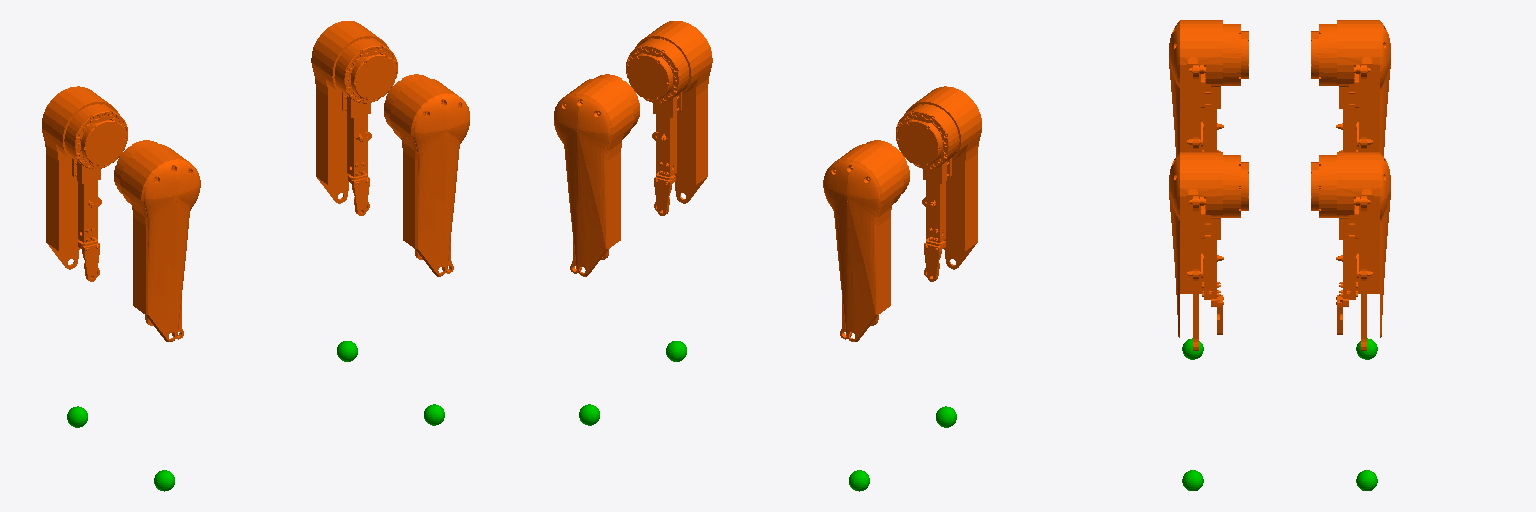
--- What the picture shows (computed from the rendered views, not written in the file) ---
The picture shows the robot from 3 angles, left to right: view 1: azimuth 30°, elevation 25°; view 2: azimuth 150°, elevation 25°; view 3: azimuth 270°, elevation 25°; orthographic projection.
Model aliengo_description with 19 links and 18 joints (12 revolute, 6 fixed), rooted at base, posed all joints at 0.
Visible links, largest first — view 1: RR_thigh, FR_thigh, FL_thigh, RL_thigh; view 2: RL_thigh, FL_thigh, FR_thigh, RR_thigh; view 3: FR_thigh, FL_thigh, RR_thigh, RL_thigh.
Boxes of the visible links, x1,y1,x2,y2 form: RR_thigh: (114,140,200,341); FR_thigh: (384,74,469,276); FL_thigh: (311,21,397,215); RL_thigh: (42,86,127,281); RL_thigh: (823,140,909,341); FL_thigh: (554,74,639,276); FR_thigh: (626,21,712,215); RR_thigh: (896,86,981,281); FR_thigh: (1169,152,1248,350); FL_thigh: (1311,152,1390,350); RR_thigh: (1169,20,1248,155); RL_thigh: (1311,20,1390,155).
Size in the robot's own frame: 0.5855 by 0.343 by 0.5695 metres.
Meshes: 5 distinct files referenced, 4 mesh visuals loaded (2 Collada DAE); not drawn: 9 (reference not matched to a file when rendering).

The robot description file, URDF, robot "aliengo_description":
<?xml version="1.0" encoding="utf-8"?>
<!-- =================================================================================== -->
<!-- |    This document was autogenerated by xacro from robot.xacro                    | -->
<!-- |    EDITING THIS FILE BY HAND IS NOT RECOMMENDED                                 | -->
<!-- =================================================================================== -->
<robot name="aliengo_description">
  <material name="black">
    <color rgba="0.0 0.0 0.0 1.0"/>
  </material>
  <material name="blue">
    <color rgba="0.0 0.0 0.8 1.0"/>
  </material>
  <material name="green">
    <color rgba="0.0 0.8 0.0 1.0"/>
  </material>
  <material name="grey">
    <color rgba="0.2 0.2 0.2 1.0"/>
  </material>
  <material name="silver">
    <color rgba="0.913725490196 0.913725490196 0.847058823529 1.0"/>
  </material>
  <material name="orange">
    <color rgba="1.0 0.423529411765 0.0392156862745 1.0"/>
  </material>
  <material name="brown">
    <color rgba="0.870588235294 0.811764705882 0.764705882353 1.0"/>
  </material>
  <material name="red">
    <color rgba="0.8 0.0 0.0 1.0"/>
  </material>
  <material name="white">
    <color rgba="1.0 1.0 1.0 1.0"/>
  </material>
  <link name="base">
    <visual>
      <origin rpy="0 0 0" xyz="0 0 0"/>
      <geometry>
        <box size="0.001 0.001 0.001"/>
      </geometry>
    </visual>
  </link>
  <joint name="floating_base" type="fixed">
    <origin rpy="0 0 0" xyz="0 0 0"/>
    <parent link="base"/>
    <child link="trunk"/>
  </joint>
  <link name="trunk">
    <visual>
      <origin rpy="0 0 0" xyz="0 0 0"/>
      <geometry>
        <mesh filename="../meshes/trunk.dae" scale="1 1 1"/>
      </geometry>
      <material name="orange"/>
    </visual>
    <collision>
      <origin rpy="0 0 0" xyz="0 0 0"/>
      <geometry>
        <box size="0.647 0.15 0.112"/>
      </geometry>
    </collision>
    <!-- <collision>
            <origin rpy="0 0 0" xyz="0 0 0"/>
            <geometry>
                <mesh filename="../meshes/trunk.dae" scale="1 1 1"/>
            </geometry>
        </collision> -->
    <inertial>
      <origin rpy="0 0 0" xyz="0.008465 0.004045 -0.000763"/>
      <mass value="9.041"/>
      <inertia ixx="0.033260231" ixy="-0.000451628" ixz="0.000487603" iyy="0.16117211" iyz="4.8356e-05" izz="0.17460442"/>
    </inertial>
  </link>
  <joint name="imu_joint" type="fixed">
    <parent link="trunk"/>
    <child link="imu_link"/>
    <origin rpy="0 0 0" xyz="0 0 0"/>
  </joint>
  <link name="imu_link">
    <inertial>
      <mass value="0.001"/>
      <origin rpy="0 0 0" xyz="0 0 0"/>
      <inertia ixx="0.0001" ixy="0" ixz="0" iyy="0.000001" iyz="0" izz="0.0001"/>
    </inertial>
    <visual>
      <origin rpy="0 0 0" xyz="0 0 0"/>
      <geometry>
        <box size="0.001 0.001 0.001"/>
      </geometry>
      <material name="red"/>
    </visual>
    <collision>
      <origin rpy="0 0 0" xyz="0 0 0"/>
      <geometry>
        <box size=".001 .001 .001"/>
      </geometry>
    </collision>
  </link>
  <joint name="FR_hip_joint" type="revolute">
    <origin rpy="0 0 0" xyz="0.2399 -0.051 0"/>
    <parent link="trunk"/>
    <child link="FR_hip"/>
    <axis xyz="1 0 0"/>
    <dynamics damping="0" friction="0"/>
    <limit effort="44" lower="-6.28" upper="6.28" velocity="20"/>
  </joint>
  <link name="FR_hip">
    <visual>
      <origin rpy="3.14159265359 0 0" xyz="0 0 0"/>
      <geometry>
        <mesh filename="../meshes/hip.dae" scale="1 1 1"/>
      </geometry>
      <material name="orange"/>
    </visual>
    <collision>
      <origin rpy="1.57079632679 0 0" xyz="0 -0.083 0"/>
      <geometry>
        <cylinder length="0.0418" radius="0.046"/>
      </geometry>
    </collision>
    <inertial>
      <origin rpy="0 0 0" xyz="-0.022191 -0.015144 -1.5e-05"/>
      <mass value="1.993"/>
      <inertia ixx="0.002903894" ixy="7.185e-05" ixz="-1.262e-06" iyy="0.004907517" iyz="1.75e-06" izz="0.005586944"/>
    </inertial>
  </link>
  <!-- <joint name="${name}_hip_fixed" type="fixed">
            <origin rpy="0 0 0" xyz="0 ${(thigh_shoulder_length/2.0+hip_offset)*mirror} 0"/>
            <parent link="${name}_hip"/>
            <child link="${name}_thigh_shoulder"/>
        </joint> -->
  <!-- this link is only for collision -->
  <!-- <link name="${name}_thigh_shoulder">
            <collision>
                <origin rpy="${PI/2.0} 0 0" xyz="0 0 0"/>
                <geometry>
                    <cylinder length="${thigh_shoulder_length}" radius="${thigh_shoulder_radius}"/>
                </geometry>
            </collision>
        </link> -->
  <joint name="FR_thigh_joint" type="revolute">
    <origin rpy="0 0 0" xyz="0 -0.083 0"/>
    <parent link="FR_hip"/>
    <child link="FR_thigh"/>
    <axis xyz="0 1 0"/>
    <dynamics damping="0" friction="0"/>
    <limit effort="44" lower="-6.28" upper="6.28" velocity="20"/>
  </joint>
  <link name="FR_thigh">
    <visual>
      <origin rpy="0 0 0" xyz="0 0 0"/>
      <geometry>
        <mesh filename="../meshes/thigh_mirror.dae" scale="1 1 1"/>
      </geometry>
      <material name="orange"/>
    </visual>
    <collision>
      <origin rpy="0 1.57079632679 0" xyz="0 0 -0.125"/>
      <geometry>
        <box size="0.25 0.0374 0.043"/>
      </geometry>
    </collision>
    <inertial>
      <origin rpy="0 0 0" xyz="-0.005607 0.003877 -0.048199"/>
      <mass value="0.639"/>
      <inertia ixx="0.005666803" ixy="-3.597e-06" ixz="0.000491446" iyy="0.005847229" iyz="-1.0086e-05" izz="0.000369811"/>
    </inertial>
  </link>
  <joint name="FR_calf_joint" type="revolute">
    <origin rpy="0 0 0" xyz="0 0 -0.25"/>
    <parent link="FR_thigh"/>
    <child link="FR_calf"/>
    <axis xyz="0 1 0"/>
    <dynamics damping="0" friction="0"/>
    <limit effort="55" lower="-6.28" upper="6.28" velocity="16"/>
  </joint>
  <link name="FR_calf">
    <visual>
      <origin rpy="0 0 0" xyz="0 0 0"/>
      <geometry>
        <mesh filename="../meshes/calf.dae" scale="1 1 1"/>
      </geometry>
      <material name="orange"/>
    </visual>
    <collision>
      <origin rpy="0 1.57079632679 0" xyz="0 0 -0.125"/>
      <geometry>
        <box size="0.25 0.0208 0.016"/>
      </geometry>
    </collision>
    <inertial>
      <origin rpy="0 0 0" xyz="0.002781 6.3e-05 -0.142518"/>
      <mass value="0.207"/>
      <inertia ixx="0.006341369" ixy="-3e-09" ixz="-8.7951e-05" iyy="0.006355157" iyz="-1.336e-06" izz="3.9188e-05"/>
    </inertial>
  </link>
  <joint name="FR_foot_fixed" type="fixed" dont_collapse="true">
    <origin rpy="0 0 0" xyz="0 0 -0.25"/>
    <parent link="FR_calf"/>
    <child link="FR_foot"/>
  </joint>
  <link name="FR_foot">
    <visual>
      <origin rpy="0 0 0" xyz="0 0 0"/>
      <geometry>
        <sphere radius="0.0165"/>
      </geometry>
      <material name="green"/>
    </visual>
    <collision>
      <origin rpy="0 0 0" xyz="0 0 0"/>
      <geometry>
        <sphere radius="0.0265"/>
      </geometry>
    </collision>
    <inertial>
      <mass value="0.06"/>
      <inertia ixx="1.6854e-05" ixy="0.0" ixz="0.0" iyy="1.6854e-05" iyz="0.0" izz="1.6854e-05"/>
    </inertial>
  </link>
  <transmission name="FR_hip_tran">
    <type>transmission_interface/SimpleTransmission</type>
    <joint name="FR_hip_joint">
      <hardwareInterface>hardware_interface/EffortJointInterface</hardwareInterface>
    </joint>
    <actuator name="FR_hip_motor">
      <hardwareInterface>hardware_interface/EffortJointInterface</hardwareInterface>
      <mechanicalReduction>1</mechanicalReduction>
    </actuator>
  </transmission>
  <transmission name="FR_thigh_tran">
    <type>transmission_interface/SimpleTransmission</type>
    <joint name="FR_thigh_joint">
      <hardwareInterface>hardware_interface/EffortJointInterface</hardwareInterface>
    </joint>
    <actuator name="FR_thigh_motor">
      <hardwareInterface>hardware_interface/EffortJointInterface</hardwareInterface>
      <mechanicalReduction>1</mechanicalReduction>
    </actuator>
  </transmission>
  <transmission name="FR_calf_tran">
    <type>transmission_interface/SimpleTransmission</type>
    <joint name="FR_calf_joint">
      <hardwareInterface>hardware_interface/EffortJointInterface</hardwareInterface>
    </joint>
    <actuator name="FR_calf_motor">
      <hardwareInterface>hardware_interface/EffortJointInterface</hardwareInterface>
      <mechanicalReduction>1</mechanicalReduction>
    </actuator>
  </transmission>
  <joint name="FL_hip_joint" type="revolute">
    <origin rpy="0 0 0" xyz="0.2399 0.051 0"/>
    <parent link="trunk"/>
    <child link="FL_hip"/>
    <axis xyz="1 0 0"/>
    <dynamics damping="0" friction="0"/>
    <limit effort="44" lower="-6.28" upper="6.28" velocity="20"/>
  </joint>
  <link name="FL_hip">
    <visual>
      <origin rpy="0 0 0" xyz="0 0 0"/>
      <geometry>
        <mesh filename="../meshes/hip.dae" scale="1 1 1"/>
      </geometry>
      <material name="orange"/>
    </visual>
    <collision>
      <origin rpy="1.57079632679 0 0" xyz="0 0.083 0"/>
      <geometry>
        <cylinder length="0.0418" radius="0.046"/>
      </geometry>
    </collision>
    <inertial>
      <origin rpy="0 0 0" xyz="-0.022191 0.015144 -1.5e-05"/>
      <mass value="1.993"/>
      <inertia ixx="0.002903894" ixy="-7.185e-05" ixz="-1.262e-06" iyy="0.004907517" iyz="-1.75e-06" izz="0.005586944"/>
    </inertial>
  </link>
  <!-- <joint name="${name}_hip_fixed" type="fixed">
            <origin rpy="0 0 0" xyz="0 ${(thigh_shoulder_length/2.0+hip_offset)*mirror} 0"/>
            <parent link="${name}_hip"/>
            <child link="${name}_thigh_shoulder"/>
        </joint> -->
  <!-- this link is only for collision -->
  <!-- <link name="${name}_thigh_shoulder">
            <collision>
                <origin rpy="${PI/2.0} 0 0" xyz="0 0 0"/>
                <geometry>
                    <cylinder length="${thigh_shoulder_length}" radius="${thigh_shoulder_radius}"/>
                </geometry>
            </collision>
        </link> -->
  <joint name="FL_thigh_joint" type="revolute">
    <origin rpy="0 0 0" xyz="0 0.083 0"/>
    <parent link="FL_hip"/>
    <child link="FL_thigh"/>
    <axis xyz="0 1 0"/>
    <dynamics damping="0" friction="0"/>
    <limit effort="44" lower="-6.28" upper="6.28" velocity="20"/>
  </joint>
  <link name="FL_thigh">
    <visual>
      <origin rpy="0 0 0" xyz="0 0 0"/>
      <geometry>
        <mesh filename="../meshes/thigh.dae" scale="1 1 1"/>
      </geometry>
      <material name="orange"/>
    </visual>
    <collision>
      <origin rpy="0 1.57079632679 0" xyz="0 0 -0.125"/>
      <geometry>
        <box size="0.25 0.0374 0.043"/>
      </geometry>
    </collision>
    <inertial>
      <origin rpy="0 0 0" xyz="-0.005607 -0.003877 -0.048199"/>
      <mass value="0.639"/>
      <inertia ixx="0.005666803" ixy="3.597e-06" ixz="0.000491446" iyy="0.005847229" iyz="1.0086e-05" izz="0.000369811"/>
    </inertial>
  </link>
  <joint name="FL_calf_joint" type="revolute">
    <origin rpy="0 0 0" xyz="0 0 -0.25"/>
    <parent link="FL_thigh"/>
    <child link="FL_calf"/>
    <axis xyz="0 1 0"/>
    <dynamics damping="0" friction="0"/>
    <limit effort="55" lower="-6.28" upper="6.28" velocity="16"/>
  </joint>
  <link name="FL_calf">
    <visual>
      <origin rpy="0 0 0" xyz="0 0 0"/>
      <geometry>
        <mesh filename="../meshes/calf.dae" scale="1 1 1"/>
      </geometry>
      <material name="orange"/>
    </visual>
    <collision>
      <origin rpy="0 1.57079632679 0" xyz="0 0 -0.125"/>
      <geometry>
        <box size="0.25 0.0208 0.016"/>
      </geometry>
    </collision>
    <inertial>
      <origin rpy="0 0 0" xyz="0.002781 6.3e-05 -0.142518"/>
      <mass value="0.207"/>
      <inertia ixx="0.006341369" ixy="-3e-09" ixz="-8.7951e-05" iyy="0.006355157" iyz="-1.336e-06" izz="3.9188e-05"/>
    </inertial>
  </link>
  <joint name="FL_foot_fixed" type="fixed" dont_collapse="true">
    <origin rpy="0 0 0" xyz="0 0 -0.25"/>
    <parent link="FL_calf"/>
    <child link="FL_foot"/>
  </joint>
  <link name="FL_foot">
    <visual>
      <origin rpy="0 0 0" xyz="0 0 0"/>
      <geometry>
        <sphere radius="0.0165"/>
      </geometry>
      <material name="green"/>
    </visual>
    <collision>
      <origin rpy="0 0 0" xyz="0 0 0"/>
      <geometry>
        <sphere radius="0.0265"/>
      </geometry>
    </collision>
    <inertial>
      <mass value="0.06"/>
      <inertia ixx="1.6854e-05" ixy="0.0" ixz="0.0" iyy="1.6854e-05" iyz="0.0" izz="1.6854e-05"/>
    </inertial>
  </link>
  <transmission name="FL_hip_tran">
    <type>transmission_interface/SimpleTransmission</type>
    <joint name="FL_hip_joint">
      <hardwareInterface>hardware_interface/EffortJointInterface</hardwareInterface>
    </joint>
    <actuator name="FL_hip_motor">
      <hardwareInterface>hardware_interface/EffortJointInterface</hardwareInterface>
      <mechanicalReduction>1</mechanicalReduction>
    </actuator>
  </transmission>
  <transmission name="FL_thigh_tran">
    <type>transmission_interface/SimpleTransmission</type>
    <joint name="FL_thigh_joint">
      <hardwareInterface>hardware_interface/EffortJointInterface</hardwareInterface>
    </joint>
    <actuator name="FL_thigh_motor">
      <hardwareInterface>hardware_interface/EffortJointInterface</hardwareInterface>
      <mechanicalReduction>1</mechanicalReduction>
    </actuator>
  </transmission>
  <transmission name="FL_calf_tran">
    <type>transmission_interface/SimpleTransmission</type>
    <joint name="FL_calf_joint">
      <hardwareInterface>hardware_interface/EffortJointInterface</hardwareInterface>
    </joint>
    <actuator name="FL_calf_motor">
      <hardwareInterface>hardware_interface/EffortJointInterface</hardwareInterface>
      <mechanicalReduction>1</mechanicalReduction>
    </actuator>
  </transmission>
  <joint name="RR_hip_joint" type="revolute">
    <origin rpy="0 0 0" xyz="-0.2399 -0.051 0"/>
    <parent link="trunk"/>
    <child link="RR_hip"/>
    <axis xyz="1 0 0"/>
    <dynamics damping="0" friction="0"/>
    <limit effort="44" lower="-6.28" upper="6.28" velocity="20"/>
  </joint>
  <link name="RR_hip">
    <visual>
      <origin rpy="3.14159265359 3.14159265359 0" xyz="0 0 0"/>
      <geometry>
        <mesh filename="../meshes/hip.dae" scale="1 1 1"/>
      </geometry>
      <material name="orange"/>
    </visual>
    <collision>
      <origin rpy="1.57079632679 0 0" xyz="0 -0.083 0"/>
      <geometry>
        <cylinder length="0.0418" radius="0.046"/>
      </geometry>
    </collision>
    <inertial>
      <origin rpy="0 0 0" xyz="0.022191 -0.015144 -1.5e-05"/>
      <mass value="1.993"/>
      <inertia ixx="0.002903894" ixy="-7.185e-05" ixz="1.262e-06" iyy="0.004907517" iyz="1.75e-06" izz="0.005586944"/>
    </inertial>
  </link>
  <!-- <joint name="${name}_hip_fixed" type="fixed">
            <origin rpy="0 0 0" xyz="0 ${(thigh_shoulder_length/2.0+hip_offset)*mirror} 0"/>
            <parent link="${name}_hip"/>
            <child link="${name}_thigh_shoulder"/>
        </joint> -->
  <!-- this link is only for collision -->
  <!-- <link name="${name}_thigh_shoulder">
            <collision>
                <origin rpy="${PI/2.0} 0 0" xyz="0 0 0"/>
                <geometry>
                    <cylinder length="${thigh_shoulder_length}" radius="${thigh_shoulder_radius}"/>
                </geometry>
            </collision>
        </link> -->
  <joint name="RR_thigh_joint" type="revolute">
    <origin rpy="0 0 0" xyz="0 -0.083 0"/>
    <parent link="RR_hip"/>
    <child link="RR_thigh"/>
    <axis xyz="0 1 0"/>
    <dynamics damping="0" friction="0"/>
    <limit effort="44" lower="-6.28" upper="6.28" velocity="20"/>
  </joint>
  <link name="RR_thigh">
    <visual>
      <origin rpy="0 0 0" xyz="0 0 0"/>
      <geometry>
        <mesh filename="../meshes/thigh_mirror.dae" scale="1 1 1"/>
      </geometry>
      <material name="orange"/>
    </visual>
    <collision>
      <origin rpy="0 1.57079632679 0" xyz="0 0 -0.125"/>
      <geometry>
        <box size="0.25 0.0374 0.043"/>
      </geometry>
    </collision>
    <inertial>
      <origin rpy="0 0 0" xyz="-0.005607 0.003877 -0.048199"/>
      <mass value="0.639"/>
      <inertia ixx="0.005666803" ixy="-3.597e-06" ixz="0.000491446" iyy="0.005847229" iyz="-1.0086e-05" izz="0.000369811"/>
    </inertial>
  </link>
  <joint name="RR_calf_joint" type="revolute">
    <origin rpy="0 0 0" xyz="0 0 -0.25"/>
    <parent link="RR_thigh"/>
    <child link="RR_calf"/>
    <axis xyz="0 1 0"/>
    <dynamics damping="0" friction="0"/>
    <limit effort="55" lower="-6.28" upper="6.28" velocity="16"/>
  </joint>
  <link name="RR_calf">
    <visual>
      <origin rpy="0 0 0" xyz="0 0 0"/>
      <geometry>
        <mesh filename="../meshes/calf.dae" scale="1 1 1"/>
      </geometry>
      <material name="orange"/>
    </visual>
    <collision>
      <origin rpy="0 1.57079632679 0" xyz="0 0 -0.125"/>
      <geometry>
        <box size="0.25 0.0208 0.016"/>
      </geometry>
    </collision>
    <inertial>
      <origin rpy="0 0 0" xyz="0.002781 6.3e-05 -0.142518"/>
      <mass value="0.207"/>
      <inertia ixx="0.006341369" ixy="-3e-09" ixz="-8.7951e-05" iyy="0.006355157" iyz="-1.336e-06" izz="3.9188e-05"/>
    </inertial>
  </link>
  <joint name="RR_foot_fixed" type="fixed" dont_collapse="true">
    <origin rpy="0 0 0" xyz="0 0 -0.25"/>
    <parent link="RR_calf"/>
    <child link="RR_foot"/>
  </joint>
  <link name="RR_foot">
    <visual>
      <origin rpy="0 0 0" xyz="0 0 0"/>
      <geometry>
        <sphere radius="0.0165"/>
      </geometry>
      <material name="green"/>
    </visual>
    <collision>
      <origin rpy="0 0 0" xyz="0 0 0"/>
      <geometry>
        <sphere radius="0.0265"/>
      </geometry>
    </collision>
    <inertial>
      <mass value="0.06"/>
      <inertia ixx="1.6854e-05" ixy="0.0" ixz="0.0" iyy="1.6854e-05" iyz="0.0" izz="1.6854e-05"/>
    </inertial>
  </link>
  <transmission name="RR_hip_tran">
    <type>transmission_interface/SimpleTransmission</type>
    <joint name="RR_hip_joint">
      <hardwareInterface>hardware_interface/EffortJointInterface</hardwareInterface>
    </joint>
    <actuator name="RR_hip_motor">
      <hardwareInterface>hardware_interface/EffortJointInterface</hardwareInterface>
      <mechanicalReduction>1</mechanicalReduction>
    </actuator>
  </transmission>
  <transmission name="RR_thigh_tran">
    <type>transmission_interface/SimpleTransmission</type>
    <joint name="RR_thigh_joint">
      <hardwareInterface>hardware_interface/EffortJointInterface</hardwareInterface>
    </joint>
    <actuator name="RR_thigh_motor">
      <hardwareInterface>hardware_interface/EffortJointInterface</hardwareInterface>
      <mechanicalReduction>1</mechanicalReduction>
    </actuator>
  </transmission>
  <transmission name="RR_calf_tran">
    <type>transmission_interface/SimpleTransmission</type>
    <joint name="RR_calf_joint">
      <hardwareInterface>hardware_interface/EffortJointInterface</hardwareInterface>
    </joint>
    <actuator name="RR_calf_motor">
      <hardwareInterface>hardware_interface/EffortJointInterface</hardwareInterface>
      <mechanicalReduction>1</mechanicalReduction>
    </actuator>
  </transmission>
  <joint name="RL_hip_joint" type="revolute">
    <origin rpy="0 0 0" xyz="-0.2399 0.051 0"/>
    <parent link="trunk"/>
    <child link="RL_hip"/>
    <axis xyz="1 0 0"/>
    <dynamics damping="0" friction="0"/>
    <limit effort="44" lower="-6.28" upper="6.28" velocity="20"/>
  </joint>
  <link name="RL_hip">
    <visual>
      <origin rpy="0 3.14159265359 0" xyz="0 0 0"/>
      <geometry>
        <mesh filename="../meshes/hip.dae" scale="1 1 1"/>
      </geometry>
      <material name="orange"/>
    </visual>
    <collision>
      <origin rpy="1.57079632679 0 0" xyz="0 0.083 0"/>
      <geometry>
        <cylinder length="0.0418" radius="0.046"/>
      </geometry>
    </collision>
    <inertial>
      <origin rpy="0 0 0" xyz="0.022191 0.015144 -1.5e-05"/>
      <mass value="1.993"/>
      <inertia ixx="0.002903894" ixy="7.185e-05" ixz="1.262e-06" iyy="0.004907517" iyz="-1.75e-06" izz="0.005586944"/>
    </inertial>
  </link>
  <!-- <joint name="${name}_hip_fixed" type="fixed">
            <origin rpy="0 0 0" xyz="0 ${(thigh_shoulder_length/2.0+hip_offset)*mirror} 0"/>
            <parent link="${name}_hip"/>
            <child link="${name}_thigh_shoulder"/>
        </joint> -->
  <!-- this link is only for collision -->
  <!-- <link name="${name}_thigh_shoulder">
            <collision>
                <origin rpy="${PI/2.0} 0 0" xyz="0 0 0"/>
                <geometry>
                    <cylinder length="${thigh_shoulder_length}" radius="${thigh_shoulder_radius}"/>
                </geometry>
            </collision>
        </link> -->
  <joint name="RL_thigh_joint" type="revolute">
    <origin rpy="0 0 0" xyz="0 0.083 0"/>
    <parent link="RL_hip"/>
    <child link="RL_thigh"/>
    <axis xyz="0 1 0"/>
    <dynamics damping="0" friction="0"/>
    <limit effort="44" lower="-6.28" upper="6.28" velocity="20"/>
  </joint>
  <link name="RL_thigh">
    <visual>
      <origin rpy="0 0 0" xyz="0 0 0"/>
      <geometry>
        <mesh filename="../meshes/thigh.dae" scale="1 1 1"/>
      </geometry>
      <material name="orange"/>
    </visual>
    <collision>
      <origin rpy="0 1.57079632679 0" xyz="0 0 -0.125"/>
      <geometry>
        <box size="0.25 0.0374 0.043"/>
      </geometry>
    </collision>
    <inertial>
      <origin rpy="0 0 0" xyz="-0.005607 -0.003877 -0.048199"/>
      <mass value="0.639"/>
      <inertia ixx="0.005666803" ixy="3.597e-06" ixz="0.000491446" iyy="0.005847229" iyz="1.0086e-05" izz="0.000369811"/>
    </inertial>
  </link>
  <joint name="RL_calf_joint" type="revolute">
    <origin rpy="0 0 0" xyz="0 0 -0.25"/>
    <parent link="RL_thigh"/>
    <child link="RL_calf"/>
    <axis xyz="0 1 0"/>
    <dynamics damping="0" friction="0"/>
    <limit effort="55" lower="-6.28" upper="6.28" velocity="16"/>
  </joint>
  <link name="RL_calf">
    <visual>
      <origin rpy="0 0 0" xyz="0 0 0"/>
      <geometry>
        <mesh filename="../meshes/calf.dae" scale="1 1 1"/>
      </geometry>
      <material name="orange"/>
    </visual>
    <collision>
      <origin rpy="0 1.57079632679 0" xyz="0 0 -0.125"/>
      <geometry>
        <box size="0.25 0.0208 0.016"/>
      </geometry>
    </collision>
    <inertial>
      <origin rpy="0 0 0" xyz="0.002781 6.3e-05 -0.142518"/>
      <mass value="0.207"/>
      <inertia ixx="0.006341369" ixy="-3e-09" ixz="-8.7951e-05" iyy="0.006355157" iyz="-1.336e-06" izz="3.9188e-05"/>
    </inertial>
  </link>
  <joint name="RL_foot_fixed" type="fixed" dont_collapse="true">
    <origin rpy="0 0 0" xyz="0 0 -0.25"/>
    <parent link="RL_calf"/>
    <child link="RL_foot"/>
  </joint>
  <link name="RL_foot">
    <visual>
      <origin rpy="0 0 0" xyz="0 0 0"/>
      <geometry>
        <sphere radius="0.0165"/>
      </geometry>
      <material name="green"/>
    </visual>
    <collision>
      <origin rpy="0 0 0" xyz="0 0 0"/>
      <geometry>
        <sphere radius="0.0265"/>
      </geometry>
    </collision>
    <inertial>
      <mass value="0.06"/>
      <inertia ixx="1.6854e-05" ixy="0.0" ixz="0.0" iyy="1.6854e-05" iyz="0.0" izz="1.6854e-05"/>
    </inertial>
  </link>
  <transmission name="RL_hip_tran">
    <type>transmission_interface/SimpleTransmission</type>
    <joint name="RL_hip_joint">
      <hardwareInterface>hardware_interface/EffortJointInterface</hardwareInterface>
    </joint>
    <actuator name="RL_hip_motor">
      <hardwareInterface>hardware_interface/EffortJointInterface</hardwareInterface>
      <mechanicalReduction>1</mechanicalReduction>
    </actuator>
  </transmission>
  <transmission name="RL_thigh_tran">
    <type>transmission_interface/SimpleTransmission</type>
    <joint name="RL_thigh_joint">
      <hardwareInterface>hardware_interface/EffortJointInterface</hardwareInterface>
    </joint>
    <actuator name="RL_thigh_motor">
      <hardwareInterface>hardware_interface/EffortJointInterface</hardwareInterface>
      <mechanicalReduction>1</mechanicalReduction>
    </actuator>
  </transmission>
  <transmission name="RL_calf_tran">
    <type>transmission_interface/SimpleTransmission</type>
    <joint name="RL_calf_joint">
      <hardwareInterface>hardware_interface/EffortJointInterface</hardwareInterface>
    </joint>
    <actuator name="RL_calf_motor">
      <hardwareInterface>hardware_interface/EffortJointInterface</hardwareInterface>
      <mechanicalReduction>1</mechanicalReduction>
    </actuator>
  </transmission>
  <!-- <xacro:stairs stairs="15" xpos="0" ypos="2.0" zpos="0" /> -->
</robot>
